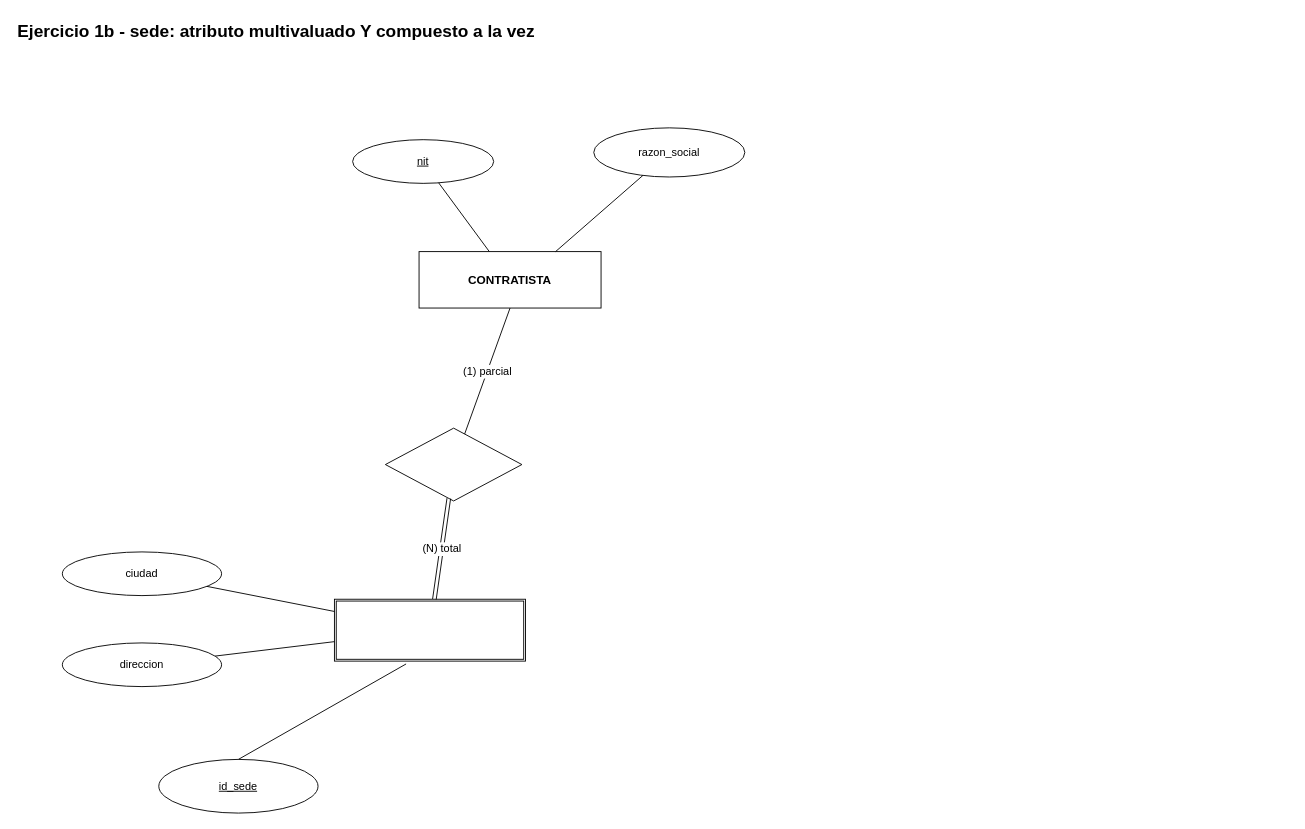
The diagram is 1305 pixels wide and 829 high, and some of its shapes have lost their labels. The centre of each missing label's shape, as x and y in pixels:
"SEDE_CONTRATISTA" goes at point 430,629.
"UBICADA_EN" goes at point 453,464.
